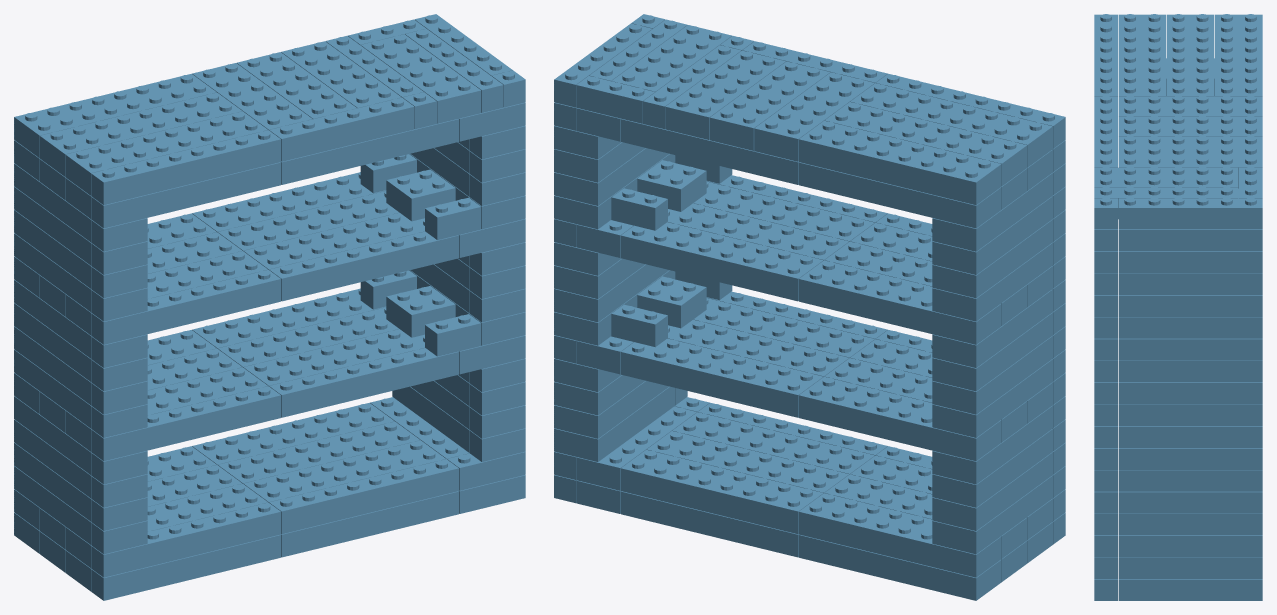
Rendered from collab_bookshelf-L5-C1_raw.glb.
3 views of the same model, side by side, from view 1: azimuth 30°, elevation 25°; view 2: azimuth 150°, elevation 25°; view 3: azimuth 270°, elevation 25° (orthographic). The views are drawn at different scales.
Bounding box in the file's own units: 18.98 × 18.13 × 6.98.
